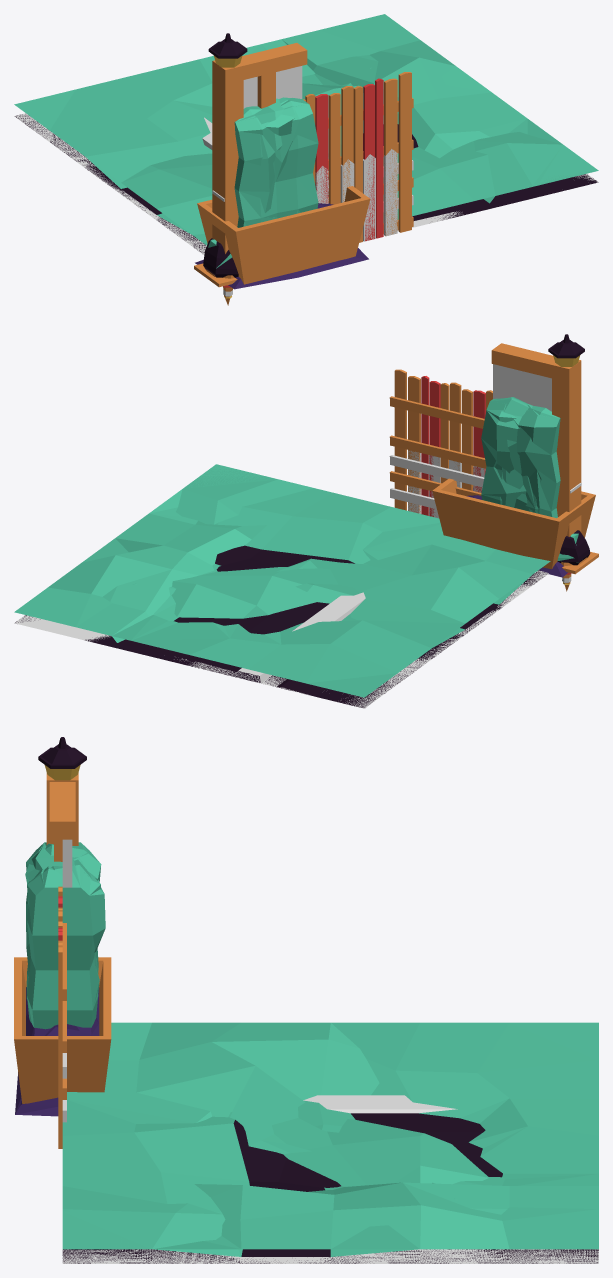
The model's file is Stuff.fbx.
The picture shows the model from 3 angles, top to bottom: view 1: azimuth 30°, elevation 25°; view 2: azimuth 150°, elevation 25°; view 3: azimuth 270°, elevation 25°; orthographic projection. The views are drawn at different scales.
Visible parts, largest first — view 1: boden_gras_2, Zaun_2, boden_gehweg_1, boden_gehweg_2, boden_gras_1, Beet_1, boden_weg, Wand_Pfosten, Beet_2, Wand, Zaun_1, Hecke_0 (+10 smaller); view 2: boden_gras_1, boden_gras_2, boden_gehweg_2, boden_weg, boden_gehweg_1, Zaun_2, Beet_1, boden_weg zu _tor, Wand_Pfosten, Hecke_3, Wand, boden_basis (+9 smaller); view 3: boden_gras_1, boden_gras_2, boden_gehweg_1, boden_weg, boden_gehweg_2, boden_weg zu _tor, Hecke_2, Beet_1, boden_basis, boden_straße, Wand, Zaun_2 (+6 smaller).
Boxes of the visible parts, x1,y1,x2,y2 form: boden_gras_2: [50, 74, 527, 182]; Zaun_2: [303, 72, 413, 242]; boden_gehweg_1: [319, 14, 527, 158]; boden_gehweg_2: [16, 30, 598, 252]; boden_gras_1: [14, 44, 598, 245]; Beet_1: [197, 171, 370, 284]; boden_weg: [121, 39, 561, 233]; Wand_Pfosten: [212, 60, 243, 253]; Beet_2: [210, 198, 369, 283]; Wand: [240, 43, 307, 108]; Zaun_1: [315, 149, 413, 241]; Hecke_0: [237, 104, 318, 218]; boden_gras_1: [131, 464, 550, 697]; boden_gras_2: [149, 507, 464, 683]; boden_gehweg_2: [76, 464, 547, 707]; boden_weg: [112, 478, 531, 640]; boden_gehweg_1: [14, 513, 266, 642]; Zaun_2: [389, 369, 492, 516]; Beet_1: [432, 467, 595, 569]; boden_weg zu _tor: [82, 522, 497, 647]; Wand_Pfosten: [552, 360, 581, 536]; Hecke_3: [481, 398, 559, 516]; Wand: [491, 343, 554, 411]; boden_basis: [14, 570, 548, 708]; boden_gras_1: [62, 1022, 598, 1249]; boden_gras_2: [203, 1022, 598, 1248]; boden_gehweg_1: [194, 1182, 598, 1249]; boden_weg: [62, 1100, 598, 1256]; boden_gehweg_2: [62, 1095, 598, 1256]; boden_weg zu _tor: [67, 1061, 598, 1249]; Hecke_2: [26, 843, 101, 1029]; Beet_1: [14, 957, 111, 1103]; boden_basis: [62, 1249, 598, 1263]; boden_straße: [62, 1249, 598, 1263]; Wand: [49, 782, 75, 887]; Zaun_2: [58, 886, 66, 1148].
Size of the model in its own units: 529 by 350 by 545.
